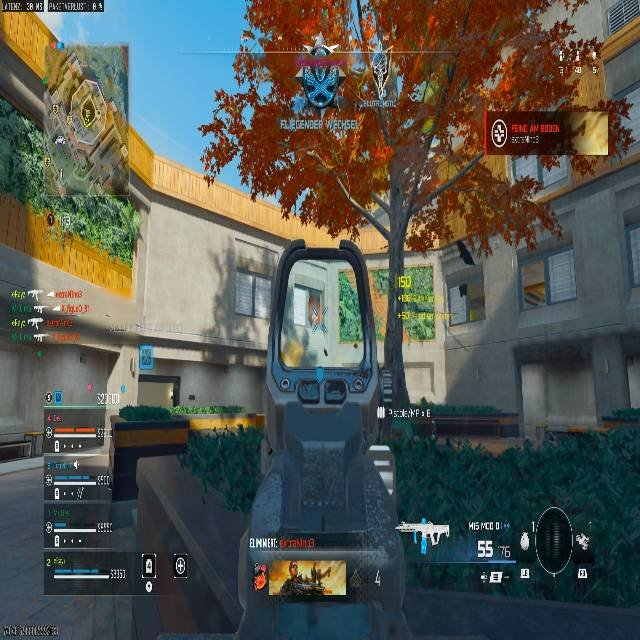player: (196, 115, 248, 191)
